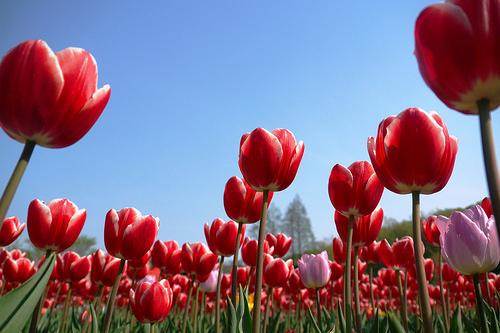tulip: (0, 39, 113, 148), (415, 0, 500, 113), (368, 107, 460, 195), (436, 205, 500, 275), (240, 129, 304, 190), (28, 197, 87, 251), (104, 206, 160, 260), (328, 161, 381, 215), (224, 175, 275, 222), (132, 280, 173, 322), (204, 218, 247, 255), (378, 237, 419, 270), (182, 241, 218, 277), (296, 251, 331, 287), (56, 251, 91, 282), (263, 253, 294, 286), (240, 237, 272, 263)
